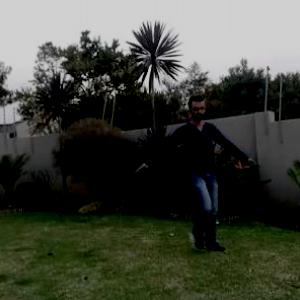land: (132, 95, 257, 249)
